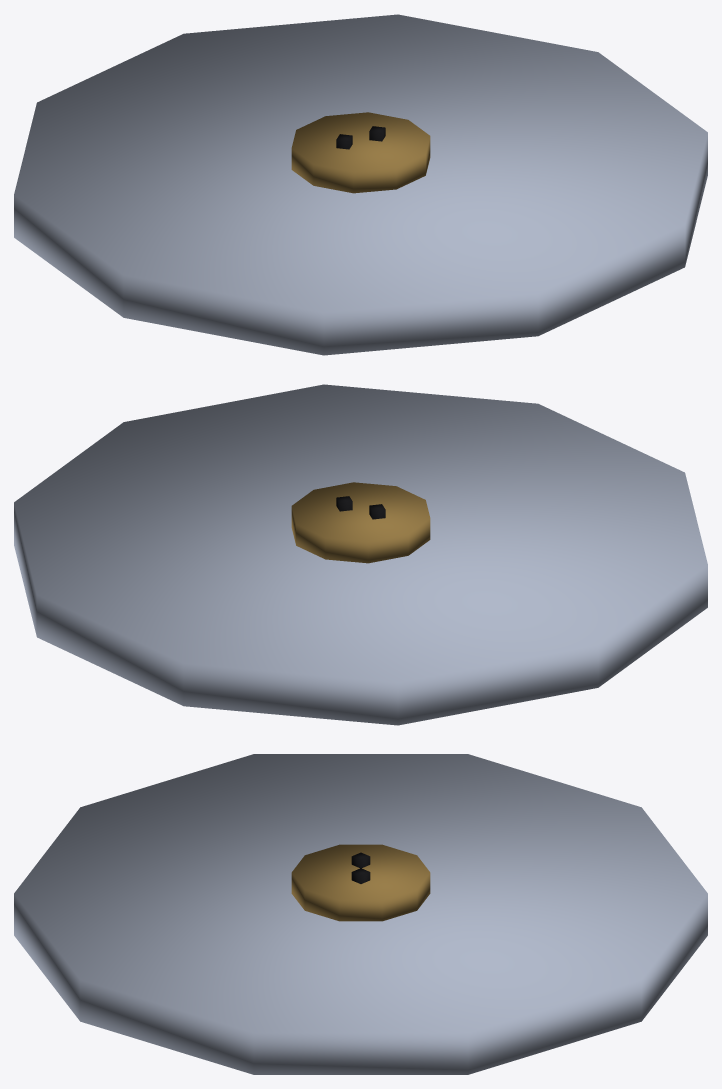
Rendered from lost_button.glb.
The picture shows the model from 3 angles, top to bottom: view 1: azimuth 30°, elevation 25°; view 2: azimuth 150°, elevation 25°; view 3: azimuth 270°, elevation 25°; orthographic projection. The views are drawn at different scales.
Visible parts, largest first — view 1: lost_button; view 2: lost_button; view 3: lost_button.
Part boxes in pixels (x1=…): lost_button: x1=14, y1=14, x2=707, y2=355; lost_button: x1=14, y1=384, x2=707, y2=725; lost_button: x1=14, y1=754, x2=707, y2=1074.
Size of the model in its own units: 0.2853 by 0.034 by 0.3.
